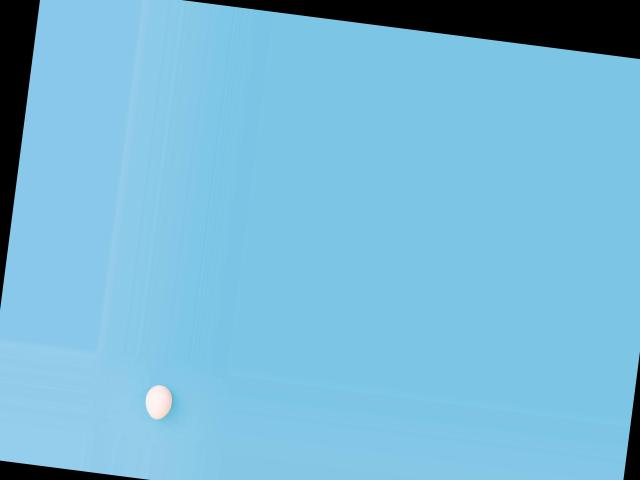egg: (143, 383, 173, 421)
